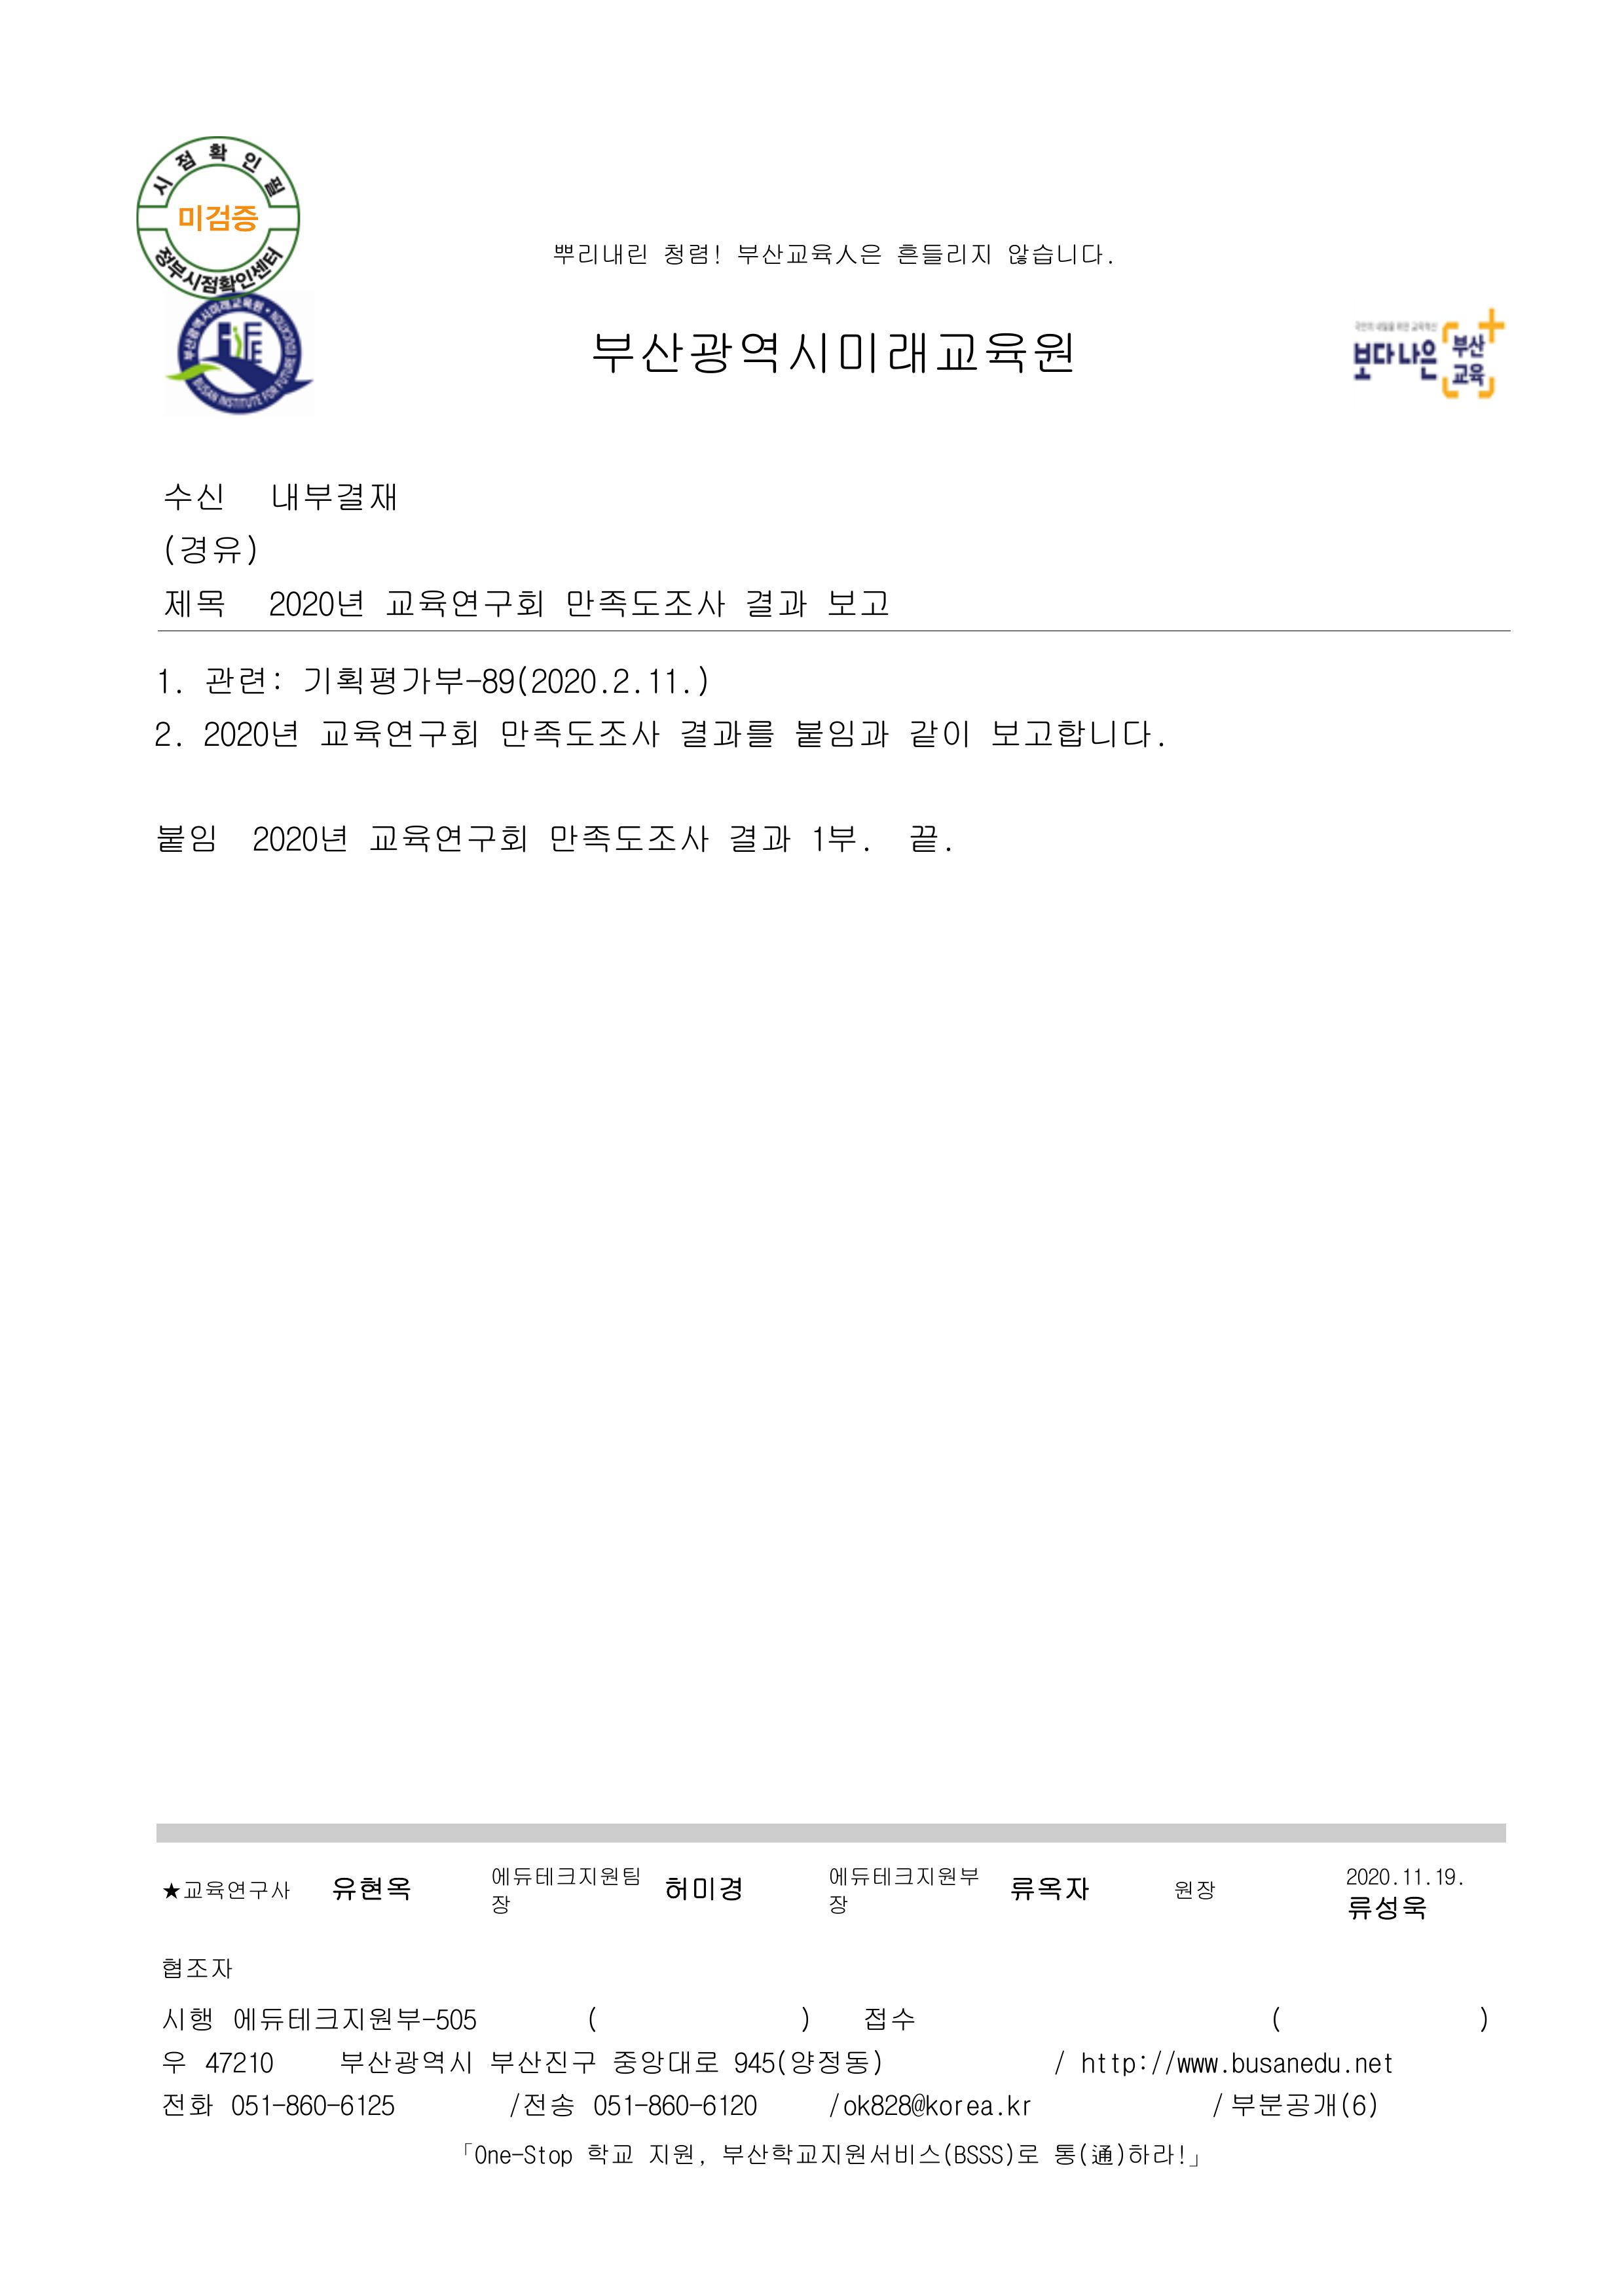t: (788, 326, 1075, 380), (297, 663, 710, 699), (591, 330, 784, 383), (229, 2000, 480, 2036), (319, 713, 477, 753), (724, 2140, 939, 2169), (989, 713, 1158, 749), (563, 584, 728, 620), (498, 713, 663, 749), (545, 821, 710, 856), (383, 584, 545, 620), (728, 2044, 885, 2080), (369, 821, 527, 856), (1226, 2087, 1380, 2123), (268, 477, 397, 516), (1348, 333, 1441, 387), (828, 2090, 997, 2119), (337, 2047, 477, 2080), (1050, 2137, 1190, 2169), (735, 240, 882, 268), (491, 1864, 642, 1890), (678, 713, 774, 753), (265, 584, 365, 620), (792, 717, 893, 753), (610, 2047, 720, 2080), (161, 530, 258, 566), (251, 821, 348, 856), (1004, 236, 1108, 268), (849, 1864, 979, 1890), (462, 2140, 577, 2169), (200, 717, 301, 749), (487, 2047, 595, 2076), (175, 200, 258, 236), (204, 663, 287, 699), (1230, 2051, 1344, 2076), (329, 1871, 412, 1904), (1007, 1871, 1090, 1904), (1344, 1890, 1427, 1922), (907, 713, 972, 753), (663, 1871, 742, 1904), (724, 821, 796, 856), (742, 584, 810, 620), (896, 244, 993, 268), (161, 584, 226, 620), (824, 584, 889, 620), (555, 244, 649, 268), (506, 2087, 577, 2119), (157, 821, 219, 856), (200, 2047, 276, 2076), (164, 1879, 247, 1904), (164, 480, 226, 513), (943, 2144, 1018, 2169), (807, 821, 860, 856), (695, 2090, 760, 2119), (333, 2090, 397, 2119), (161, 1958, 232, 1983), (1079, 2051, 1151, 2076), (860, 2000, 914, 2033), (164, 2090, 219, 2119), (161, 2004, 215, 2033), (645, 2090, 699, 2119), (645, 2140, 699, 2169), (663, 244, 724, 268), (907, 821, 946, 856), (226, 2090, 272, 2119), (588, 2090, 635, 2119), (287, 2094, 341, 2119), (1449, 329, 1488, 362), (1162, 2055, 1223, 2076), (1172, 1879, 1219, 1904), (1344, 1868, 1395, 1890), (247, 1879, 294, 1900), (588, 2144, 635, 2165), (1352, 2055, 1395, 2076), (1449, 362, 1485, 387), (1004, 2094, 1033, 2119), (1434, 1868, 1466, 1890), (1402, 1868, 1427, 1890), (157, 720, 175, 749), (164, 2051, 186, 2072), (1018, 2144, 1040, 2165), (157, 670, 175, 695), (828, 1868, 849, 1886)
